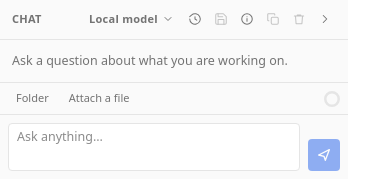
Test: ChatModelPicker › closes on Escape
Click the button with aria-label "Choose the model" at (132, 19), box [83, 8, 180, 31]
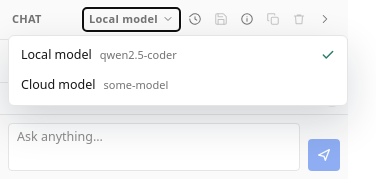
Press Escape
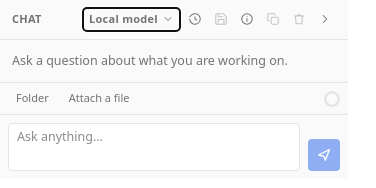
Check: the menu is gone
